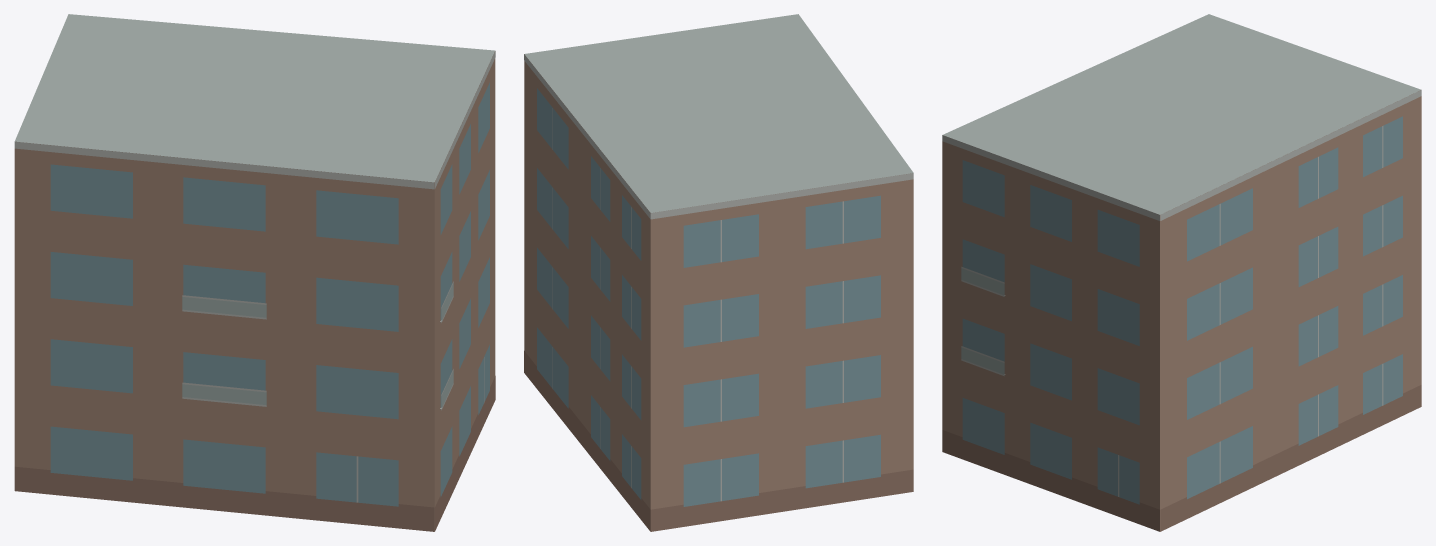
The model's file is survey-upis-32535635.glb.
3 views of the same model, side by side, from view 1: azimuth 30°, elevation 25°; view 2: azimuth 150°, elevation 25°; view 3: azimuth 270°, elevation 25° (orthographic). The views are drawn at different scales.
Parts seen in each view (by area): view 1: survey-upis-32535635.tmp; view 2: survey-upis-32535635.tmp; view 3: survey-upis-32535635.tmp.
Boxes of the visible parts, x1,y1,x2,y2 form: survey-upis-32535635.tmp: (14,14,495,531); survey-upis-32535635.tmp: (524,14,913,531); survey-upis-32535635.tmp: (942,14,1421,531).
Size of the model in its own units: 16.59 by 12.2 by 16.72.
